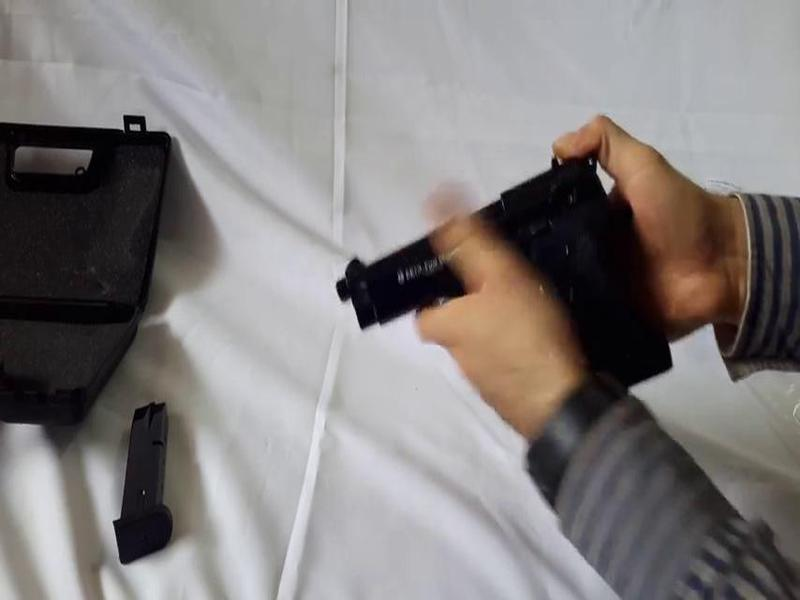Pistola: (306, 134, 704, 422)
